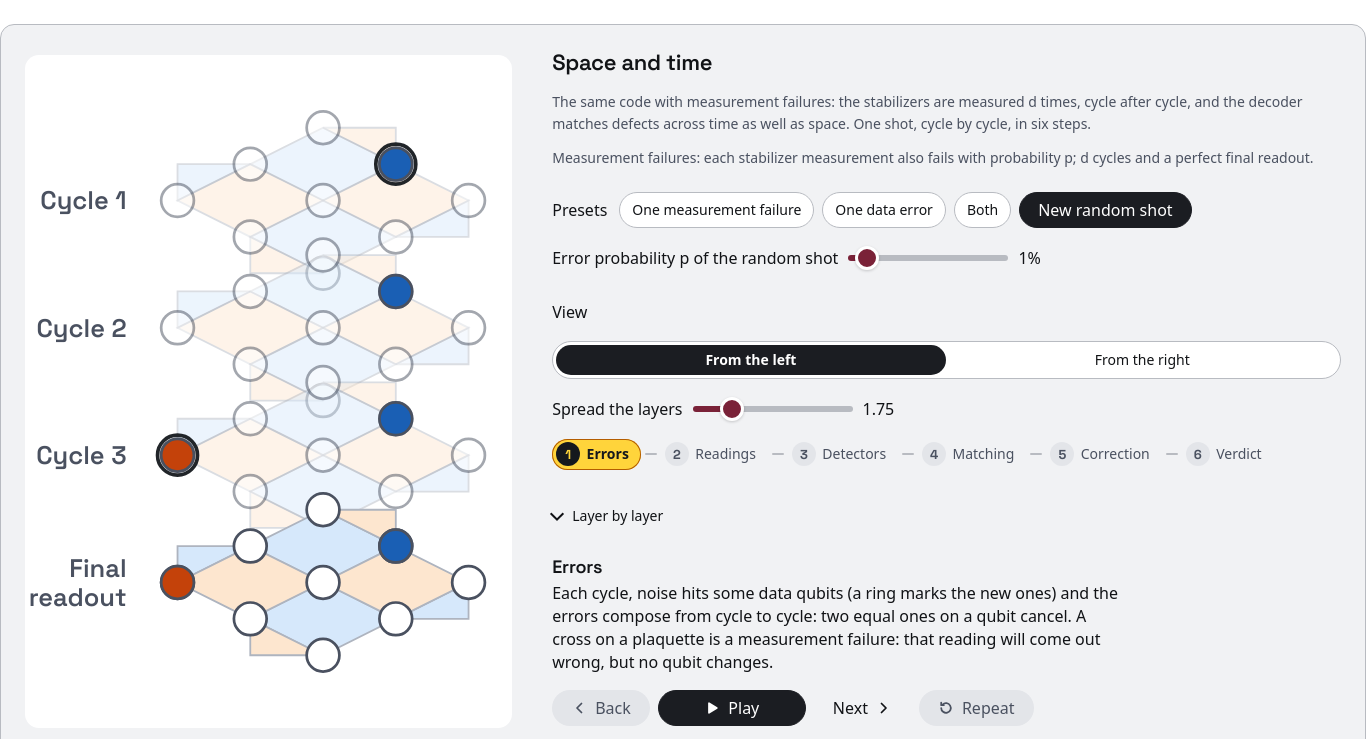
SpacetimePanel (T-G7) › back, repeat and play: play advances every 1 200 ms and stops on the last step
Click the button "Next": x=862, y=708 [814,690,911,726]
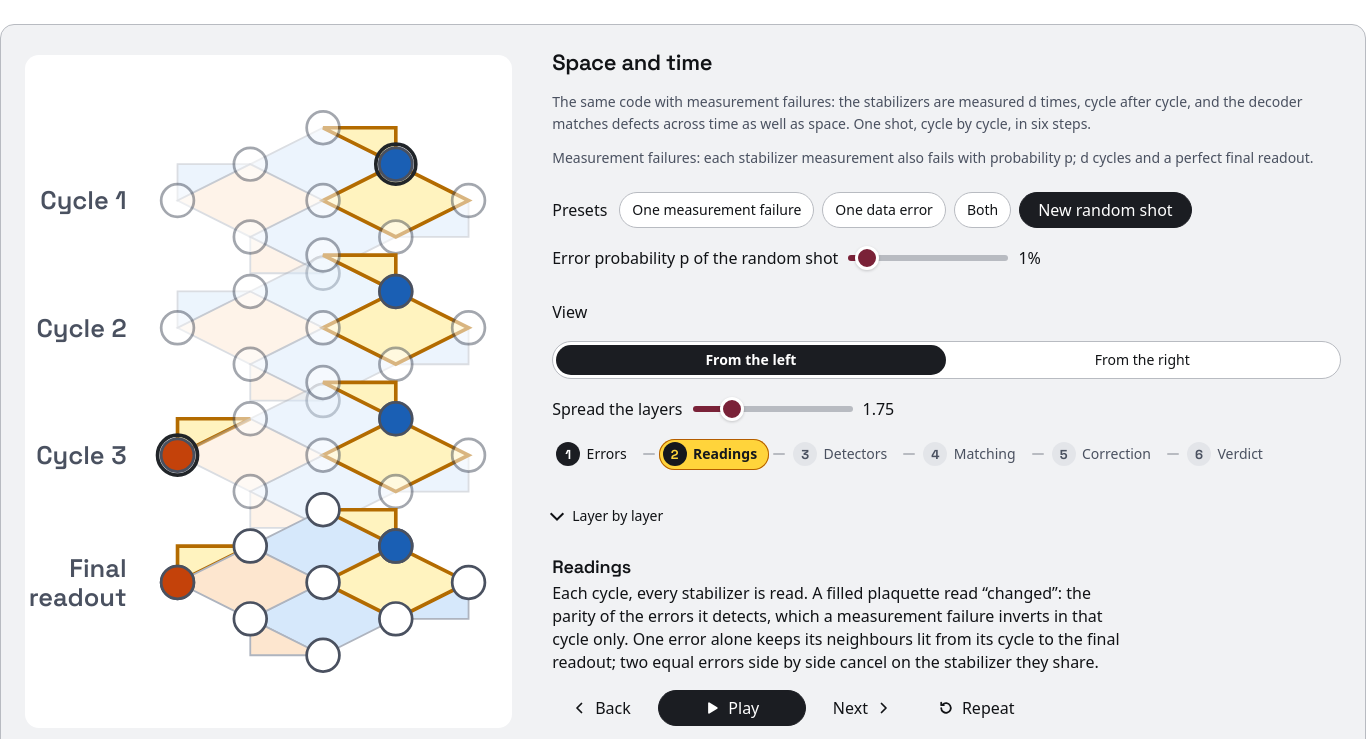
Click the button "Next": x=862, y=708 [814,690,911,726]
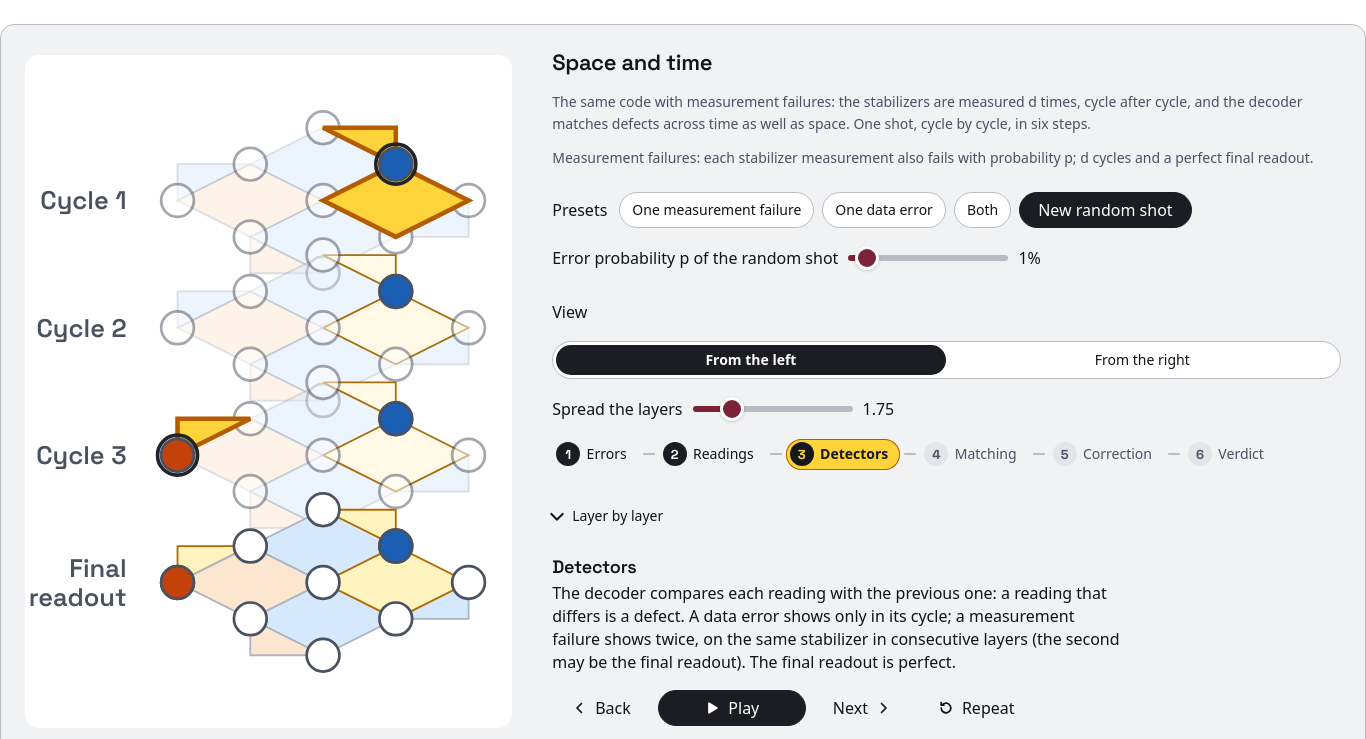
Click the button "Back": x=601, y=708 [552,690,650,726]
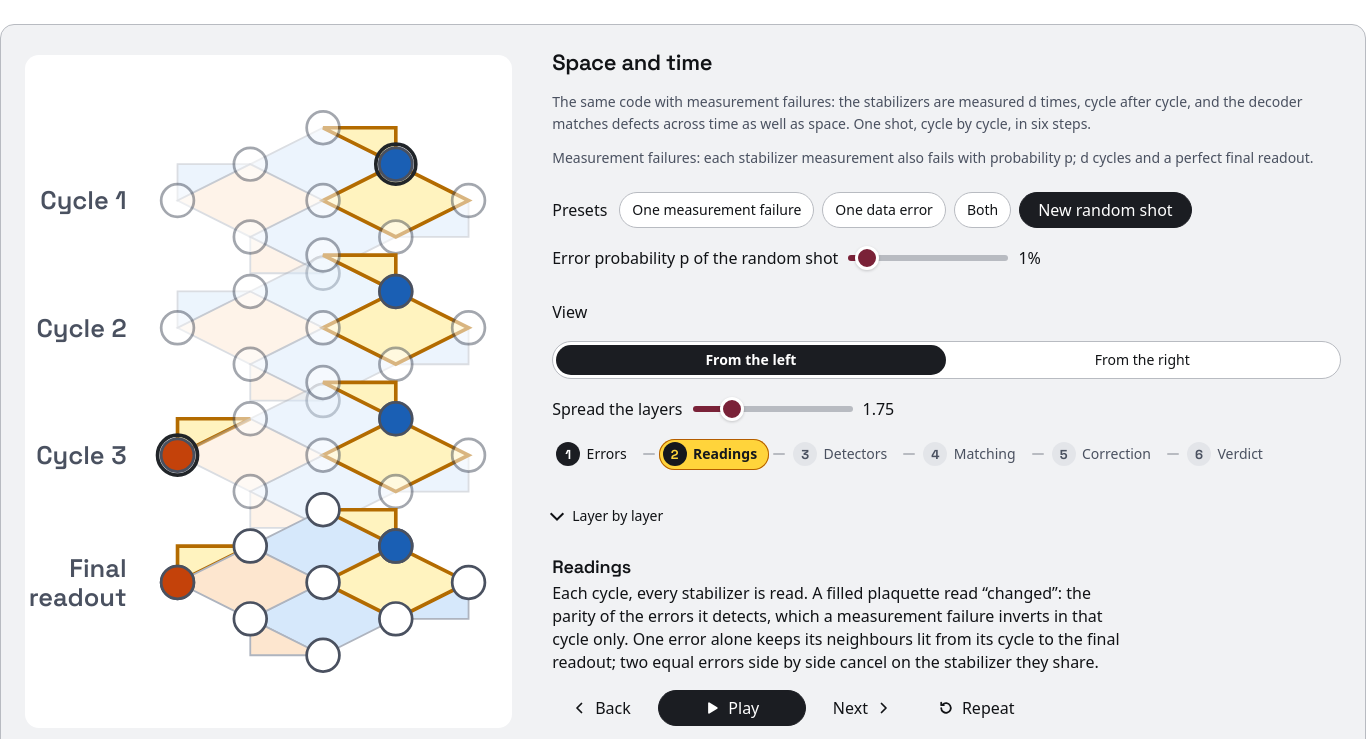
Click the button "Repeat": x=976, y=708 [919,690,1034,726]
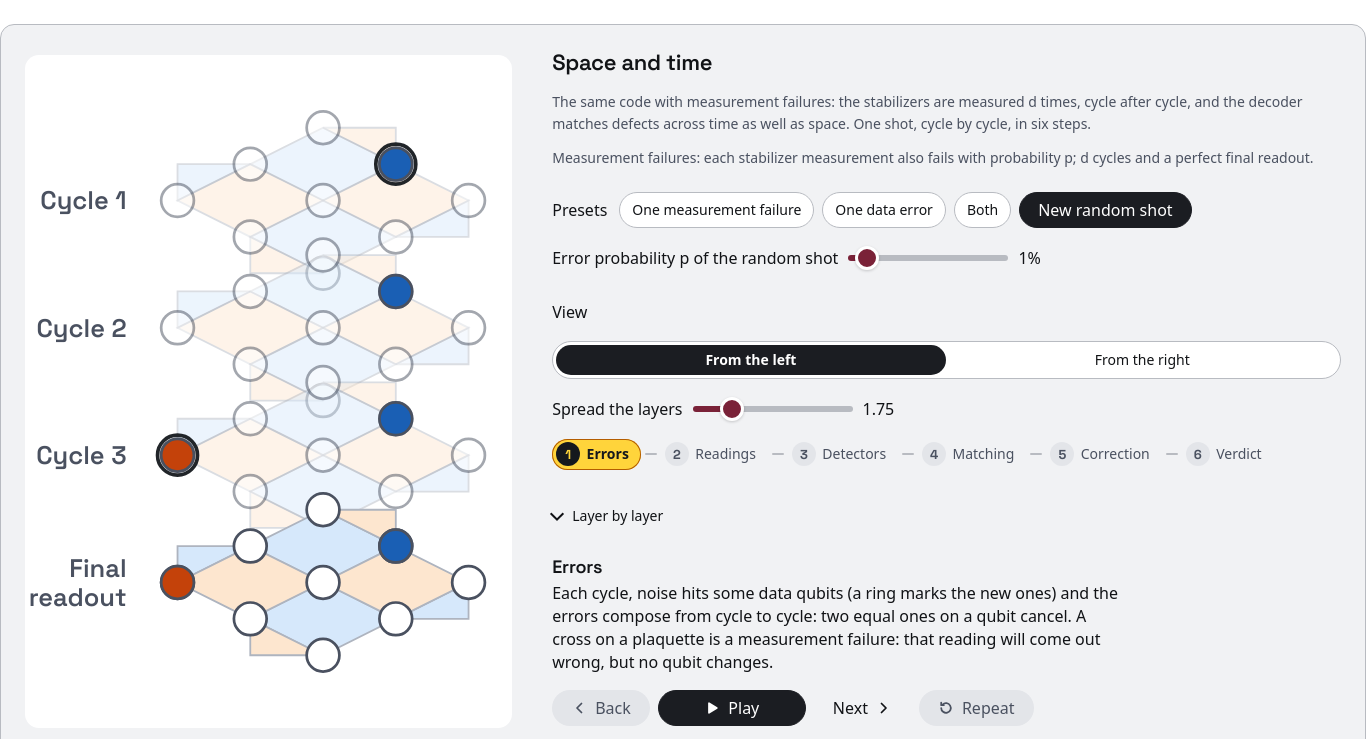
Check: the button "Back" is disabled, box [552,690,650,726]
Check: the button "Repeat" is disabled, box [919,690,1034,726]
Click the button "Play": x=732, y=708 [658,690,806,726]
Wait 13200 ms
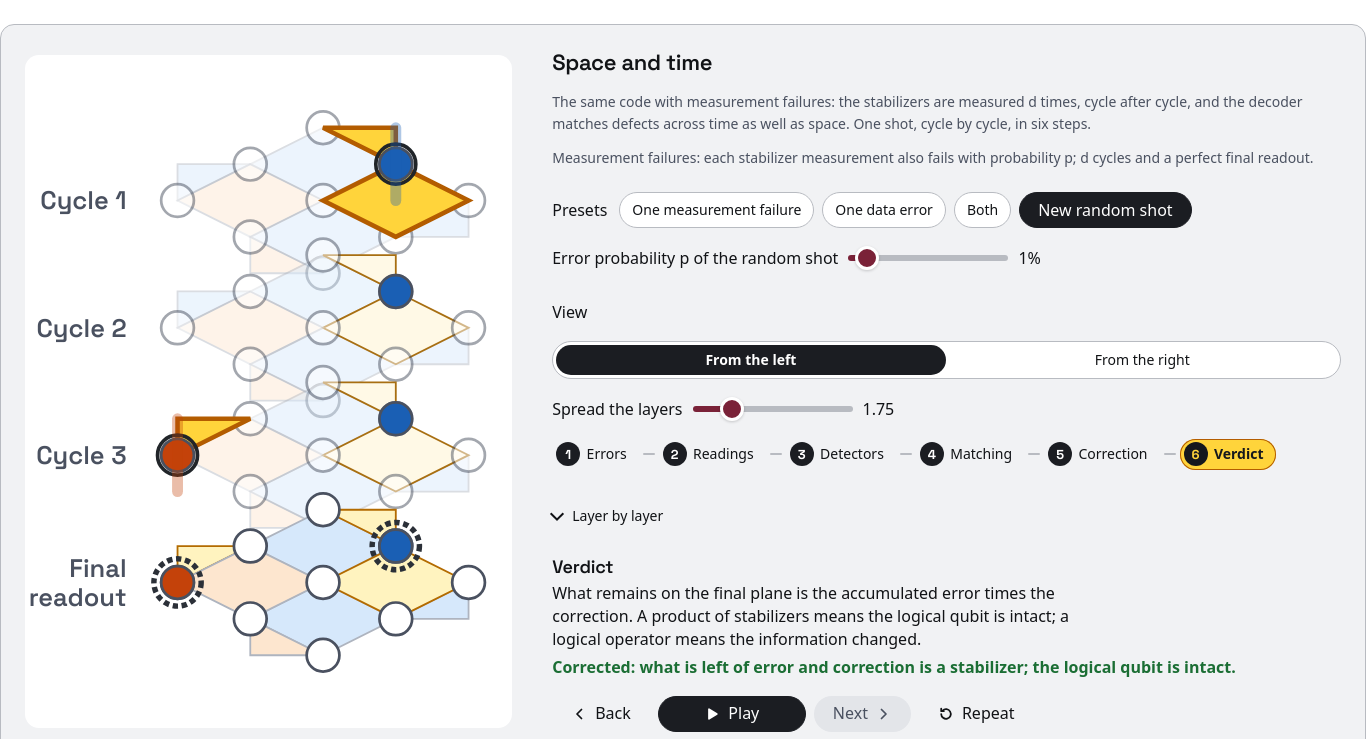
Check: the button "Next" is disabled, box [814,696,911,732]
